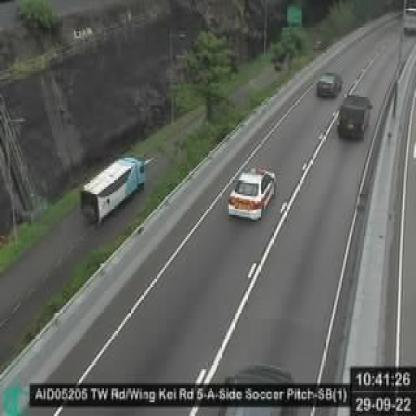Car: (221, 164, 283, 216), (332, 93, 378, 146), (313, 70, 346, 100)
Truck: (74, 149, 148, 231)
